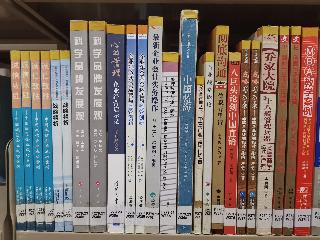book-spine: (254, 25, 279, 236), (294, 28, 319, 236), (176, 11, 199, 235), (69, 19, 90, 233), (143, 16, 163, 234), (106, 24, 126, 233), (210, 26, 230, 235), (271, 26, 290, 236), (283, 27, 302, 237), (88, 19, 106, 233), (121, 24, 138, 234), (18, 50, 37, 233), (9, 50, 28, 232), (160, 52, 179, 234), (222, 53, 241, 234), (133, 24, 149, 235), (236, 40, 252, 235), (29, 50, 46, 233), (50, 50, 66, 232), (40, 50, 55, 232), (246, 41, 260, 236), (59, 51, 74, 232), (202, 51, 215, 235), (192, 75, 204, 235)
